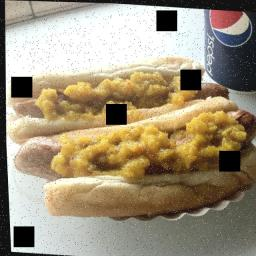hotdog: (6, 136, 72, 182), (225, 105, 256, 145), (187, 77, 227, 100), (10, 98, 55, 118)
